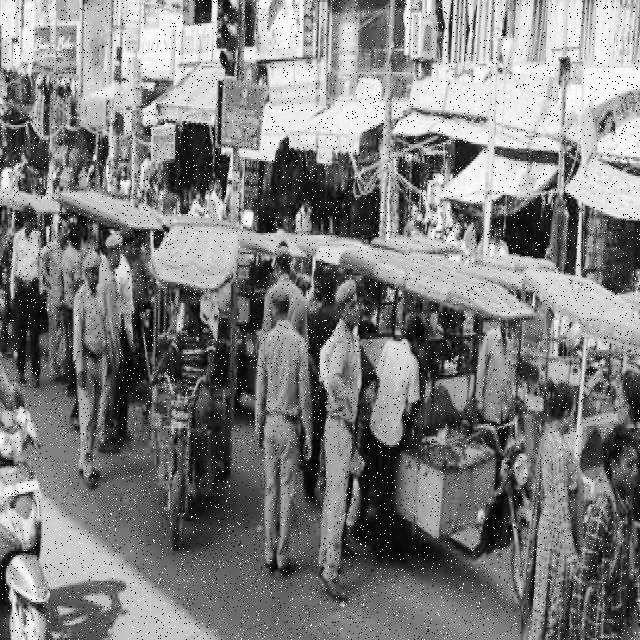Toto: (380, 268, 538, 618), (140, 227, 247, 552)
